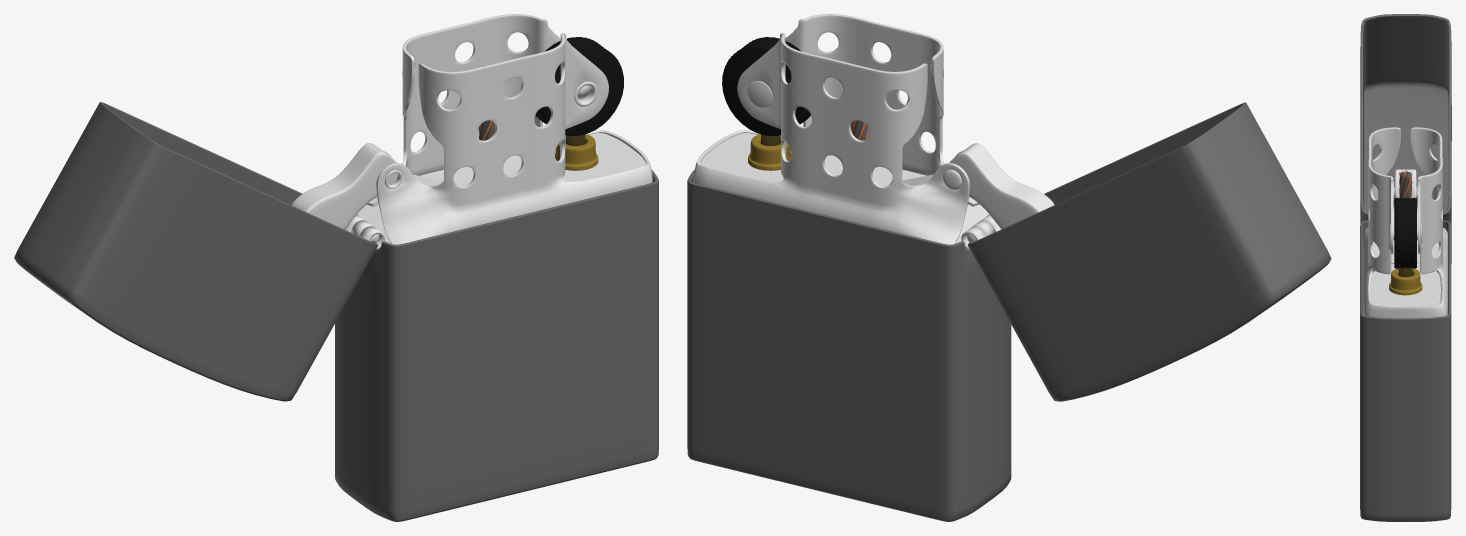
Rendered from uploads_files_4005203_zippo_fin.fbx.
The picture shows the model from 3 angles, left to right: view 1: azimuth 30°, elevation 25°; view 2: azimuth 150°, elevation 25°; view 3: azimuth 270°, elevation 25°; orthographic projection. The views are drawn at different scales.
Visible parts, largest first — view 1: bottom_case, base_lid, inside_case, cam, plate, wheel, tube_insert; view 2: bottom_case, base_lid, inside_case, cam, plate, wheel, tube_insert; view 3: bottom_case, base_lid, inside_case, plate, wheel, tube_insert, wick, cam, spring, rivet, flint.
Boxes of the visible parts, bbox=[...] form: bottom_case: bbox=[335, 170, 658, 521]; base_lid: bbox=[14, 102, 378, 401]; inside_case: bbox=[376, 14, 652, 244]; cam: bbox=[291, 143, 396, 229]; plate: bbox=[357, 133, 646, 243]; wheel: bbox=[535, 37, 623, 135]; tube_insert: bbox=[555, 134, 598, 170]; bottom_case: bbox=[687, 169, 1011, 521]; base_lid: bbox=[967, 102, 1331, 401]; inside_case: bbox=[693, 14, 969, 244]; cam: bbox=[949, 143, 1054, 229]; plate: bbox=[700, 133, 988, 243]; wheel: bbox=[722, 37, 810, 135]; tube_insert: bbox=[748, 134, 791, 170]; bottom_case: bbox=[1360, 220, 1451, 521]; base_lid: bbox=[1360, 14, 1451, 263]; inside_case: bbox=[1363, 127, 1447, 318]; plate: bbox=[1370, 242, 1440, 306]; wheel: bbox=[1394, 197, 1416, 268]; tube_insert: bbox=[1389, 268, 1422, 295]; wick: bbox=[1399, 170, 1412, 198]; cam: bbox=[1395, 169, 1416, 198]; spring: bbox=[1391, 204, 1419, 263]; rivet: bbox=[1389, 222, 1422, 243]; flint: bbox=[1398, 268, 1412, 276].
Bounding box in the file's own units: 674 × 472 × 121.
